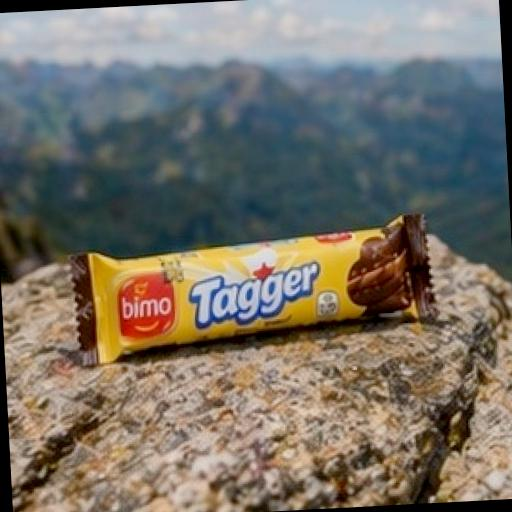tagger: (47, 123, 480, 404)
